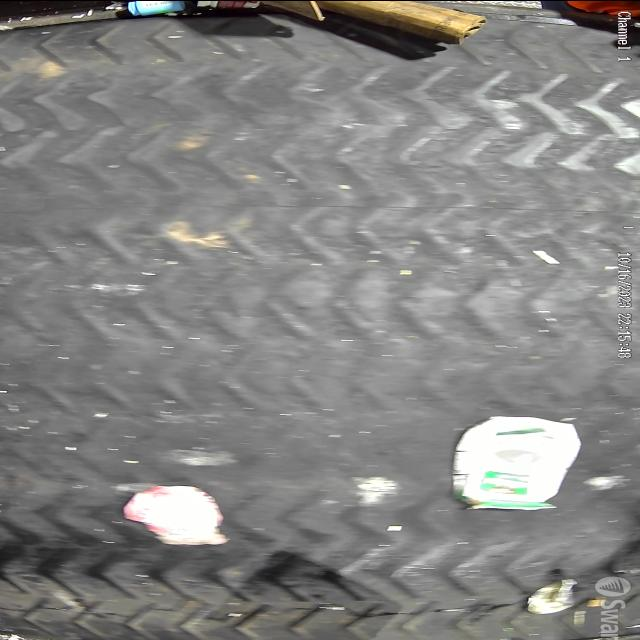non_white_jug: (452, 414, 582, 510)
